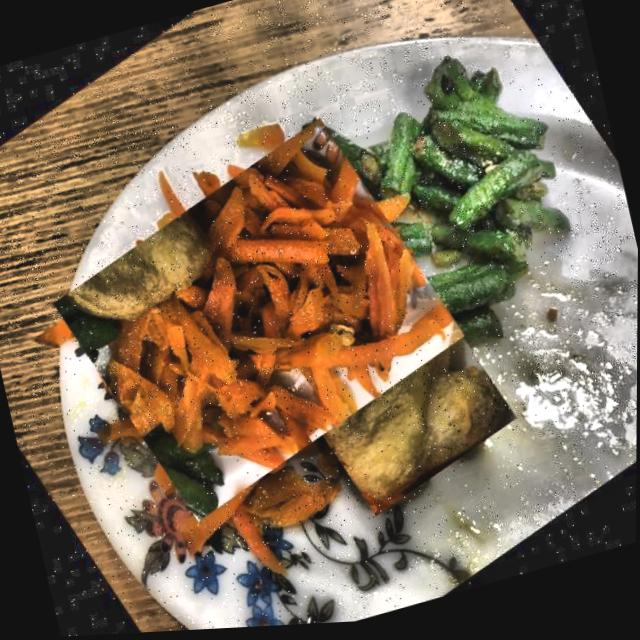Food: (28, 92, 491, 551), (276, 273, 531, 537)
